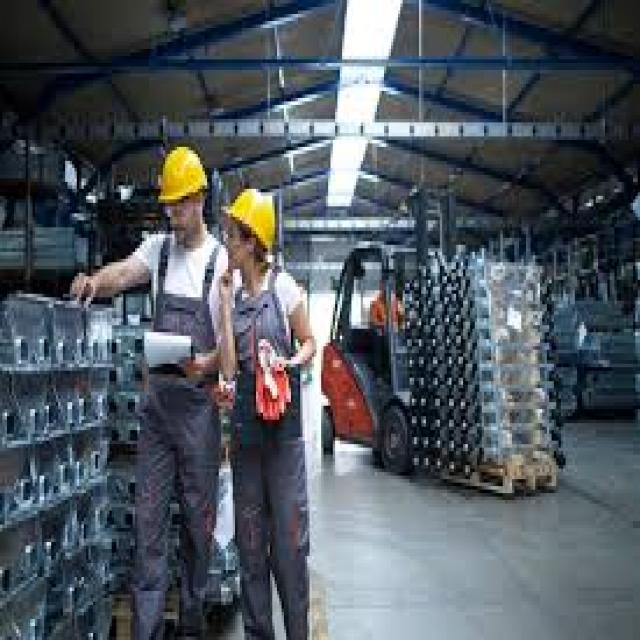Reflective-Jacket: (109, 231, 235, 437), (217, 269, 314, 455)
Safety-Helmet: (219, 175, 291, 266), (149, 137, 216, 220)
